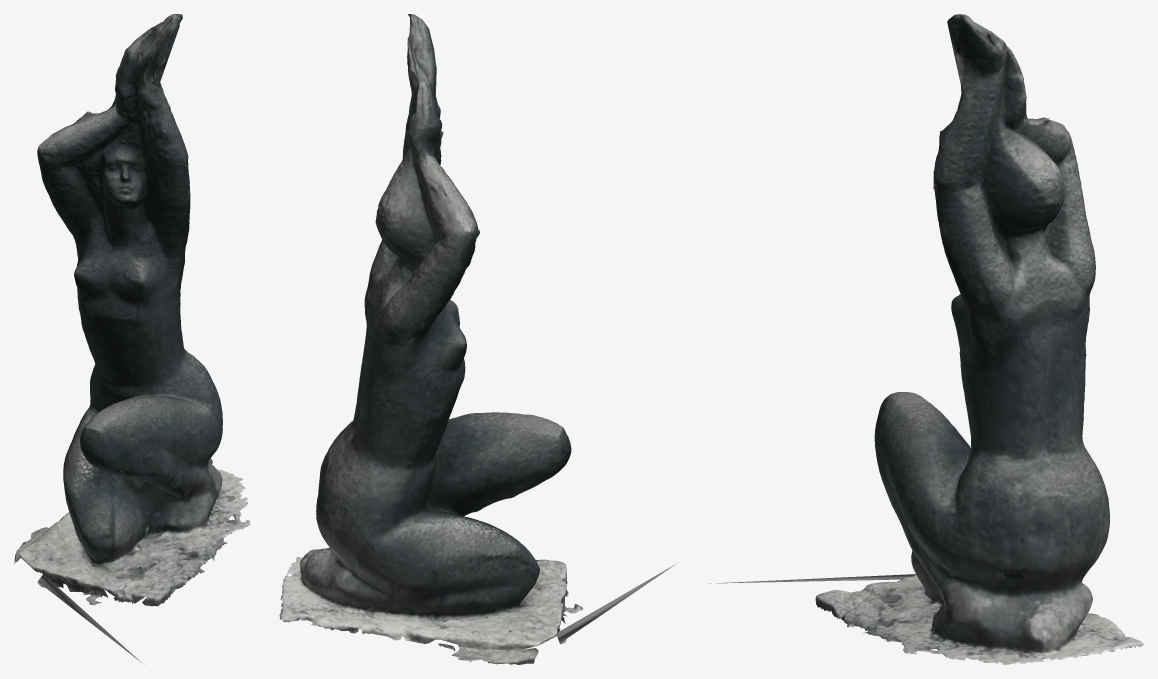
Rendered from preview.glb.
The picture shows the model from 3 angles, left to right: view 1: azimuth 30°, elevation 25°; view 2: azimuth 150°, elevation 25°; view 3: azimuth 270°, elevation 25°; orthographic projection. The views are drawn at different scales.
Parts seen in each view (by area): view 1: Object_2; view 2: Object_2; view 3: Object_2.
Boxes of the visible parts, x1,y1,x2,y2 form: Object_2: (14,14,250,664); Object_2: (279,14,678,664); Object_2: (709,14,1143,664).
Bounding box in the file's own units: 4.38 × 10.14 × 6.19.
1 material, 1 textured.
